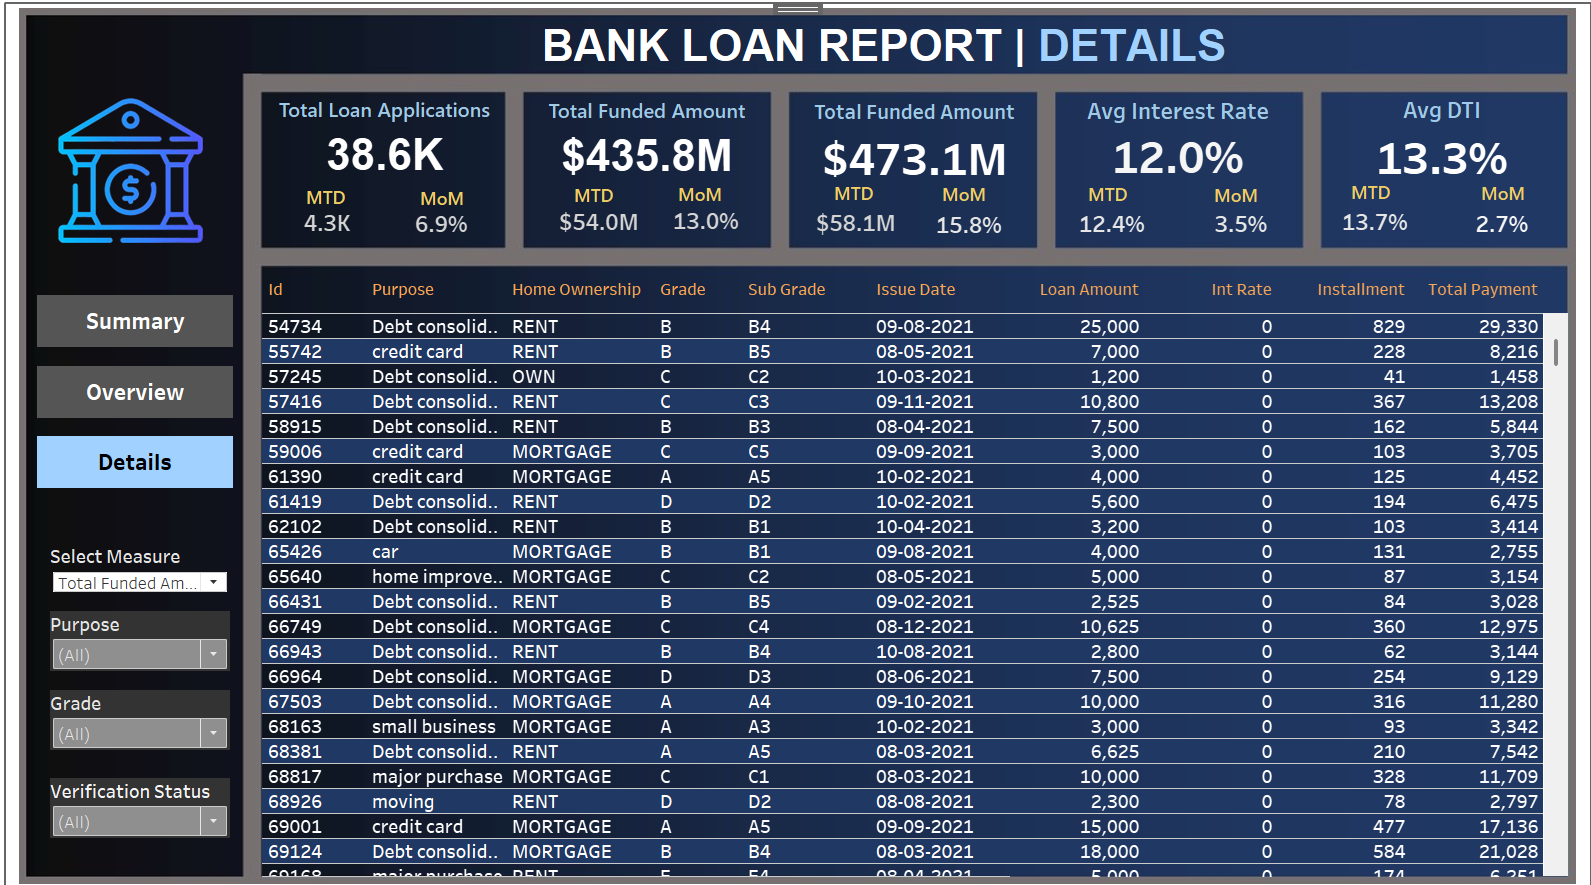

The page's visual inventory and layout, read from the dashboard file:
{"tool":"tableau","page":{"name":"DETAILS","canvas":[1600,900],"ordinal":0},"visuals":[{"type":"image","param":"M:/tableau dashboard/Tableau Background 3.jpg","box":[8,8,1584,884]},{"type":"text","box":[540,29,786,42]},{"type":"image","param":"C:/Users/ashwi/AppData/Local/Temp/TableauTemp/1e9nz9i0iaenqt1alntwf1wt6f6d/Sheet","box":[50,92,185,165]},{"type":"worksheet","title":"Avg DTI","mark":"Automatic","box":[1321,94,246,86]},{"type":"worksheet","title":"Total Loan Applications","mark":"Automatic","box":[264,95,245,85]},{"type":"worksheet","title":"Avg Interest Rate","mark":"Automatic","box":[1056,95,248,83]},{"type":"worksheet","title":"Total Funded Amount","mark":"Automatic","box":[525,96,248,85]},{"type":"worksheet","title":"Total Amount Recived","mark":"Automatic","box":[792,97,249,84]},{"type":"text","box":[1479,181,71,31]},{"type":"text","box":[676,182,71,31]},{"type":"text","box":[940,182,71,31]},{"type":"text","box":[1212,183,71,31]},{"type":"text","box":[418,186,71,32]},{"type":"text","box":[1349,186,50,20]},{"type":"text","box":[832,187,50,20]},{"type":"text","box":[1086,188,50,20]},{"type":"text","box":[572,189,50,20]},{"type":"text","box":[304,191,50,20]},{"type":"worksheet","title":"MTD Avg DTI","mark":"Automatic","box":[1339,199,76,52]},{"type":"worksheet","title":"MoM Avg Int Rate","mark":"Automatic","box":[1202,203,81,47]},{"type":"worksheet","title":"MoM Total Funded Amount","mark":"Automatic","box":[666,210,84,28]},{"type":"worksheet","title":"MoM Avg DTI","mark":"Automatic","box":[1454,210,100,33]},{"type":"worksheet","title":"MTD Total Amount Recived","mark":"Automatic","box":[809,211,97,30]},{"type":"worksheet","title":"MTD Total Loan Applications","mark":"Automatic","box":[296,213,66,25]},{"type":"worksheet","title":"MoM Loan Applications","mark":"Automatic","box":[413,213,60,27]},{"type":"worksheet","title":"MTD Avg INT Rate","mark":"Automatic","box":[1073,213,82,27]},{"type":"worksheet","title":"MTD Total Funded Amount","mark":"Automatic","box":[556,214,90,22]},{"type":"worksheet","title":"MoM Total Amount Recived","mark":"Automatic","box":[932,214,78,27]},{"type":"worksheet","title":"Details Tab","mark":"Automatic","rows":["id","purpose","home_ownership","grade","sub_grade","issue_date"],"box":[264,269,1306,612]},{"type":"dashboard-object","box":[39,299,196,52]},{"type":"dashboard-object","box":[39,370,196,52]},{"type":"dashboard-object","box":[39,440,196,52]},{"type":"parameter","param":"[Parameters].[Parameter 1]","box":[52,547,180,60]},{"type":"filter","title":"Avg DTI","param":"[federated.0cwbiav12vk9u31ck76nl0ow8zpv].[none:purpose:nk]","box":[52,615,180,60]},{"type":"filter","title":"Avg DTI","param":"[federated.0cwbiav12vk9u31ck76nl0ow8zpv].[none:grade:nk]","box":[52,694,180,60]},{"type":"filter","title":"Avg DTI","param":"[federated.0cwbiav12vk9u31ck76nl0ow8zpv].[none:verification_status:nk]","box":[52,782,180,60]}]}

Visuals, with their boxes in screenshot pixels (x1, y1, x2, y2), scaled from the page's 1600x900 canvas onto the 1591x885 screenshot:
image: bbox=(8, 8, 1583, 877)
text: bbox=(537, 29, 1319, 70)
image: bbox=(50, 90, 234, 253)
"Avg DTI" worksheet: bbox=(1314, 92, 1558, 177)
"Total Loan Applications" worksheet: bbox=(263, 93, 506, 177)
"Avg Interest Rate" worksheet: bbox=(1050, 93, 1297, 175)
"Total Funded Amount" worksheet: bbox=(522, 94, 769, 178)
"Total Amount Recived" worksheet: bbox=(788, 95, 1035, 178)
text: bbox=(1471, 178, 1541, 208)
text: bbox=(672, 179, 743, 209)
text: bbox=(935, 179, 1005, 209)
text: bbox=(1205, 180, 1276, 210)
text: bbox=(416, 183, 486, 214)
text: bbox=(1341, 183, 1391, 203)
text: bbox=(827, 184, 877, 204)
text: bbox=(1080, 185, 1130, 205)
text: bbox=(569, 186, 619, 206)
text: bbox=(302, 188, 352, 207)
"MTD Avg DTI" worksheet: bbox=(1331, 196, 1407, 247)
"MoM Avg Int Rate" worksheet: bbox=(1195, 200, 1276, 246)
"MoM Total Funded Amount" worksheet: bbox=(662, 206, 746, 234)
"MoM Avg DTI" worksheet: bbox=(1446, 206, 1545, 239)
"MTD Total Amount Recived" worksheet: bbox=(804, 207, 901, 237)
"MTD Total Loan Applications" worksheet: bbox=(294, 209, 360, 234)
"MoM Loan Applications" worksheet: bbox=(411, 209, 470, 236)
"MTD Avg INT Rate" worksheet: bbox=(1067, 209, 1149, 236)
"MTD Total Funded Amount" worksheet: bbox=(553, 210, 642, 232)
"MoM Total Amount Recived" worksheet: bbox=(927, 210, 1004, 237)
"Details Tab" worksheet: bbox=(263, 265, 1561, 866)
dashboard-object: bbox=(39, 294, 234, 345)
dashboard-object: bbox=(39, 364, 234, 415)
dashboard-object: bbox=(39, 433, 234, 484)
parameter: bbox=(52, 538, 231, 597)
"Avg DTI" filter: bbox=(52, 605, 231, 664)
"Avg DTI" filter: bbox=(52, 682, 231, 741)
"Avg DTI" filter: bbox=(52, 769, 231, 828)
